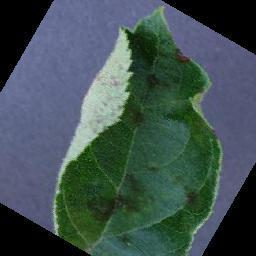apple healthy: (51, 4, 224, 255)
